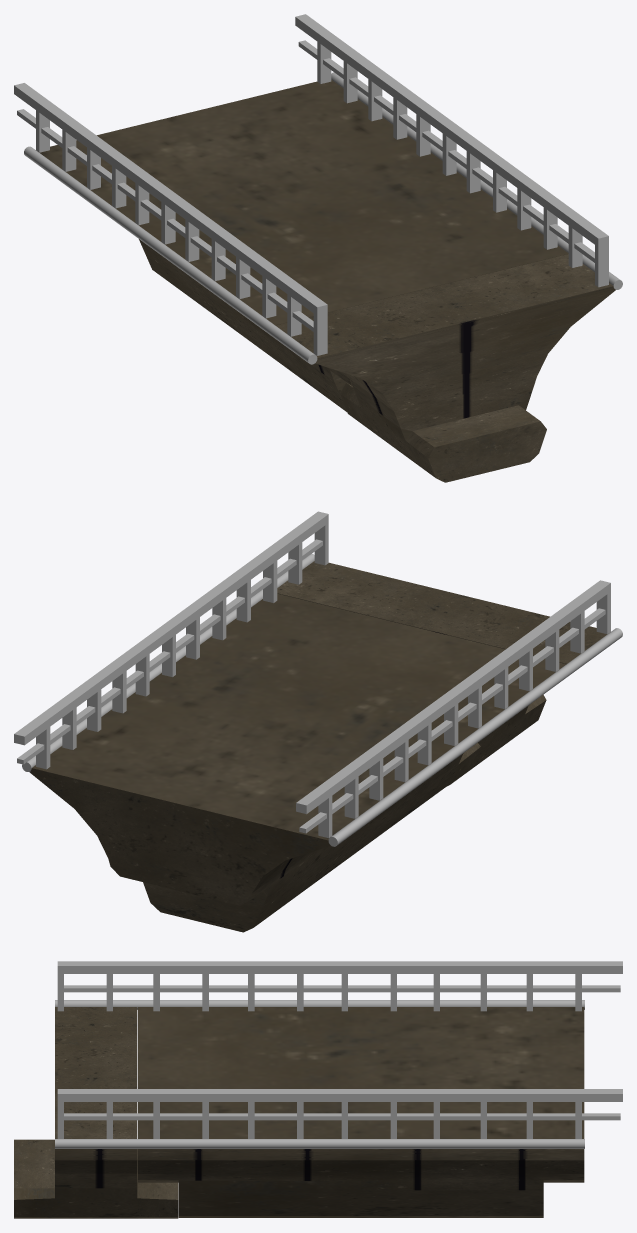
File: MrtTrack.fbx
3 renders of one model, top to bottom at view 1: azimuth 30°, elevation 25°; view 2: azimuth 150°, elevation 25°; view 3: azimuth 270°, elevation 25°, orthographic. The views are drawn at different scales.
Parts seen in each view (by area): view 1: polySurface37; view 2: polySurface37; view 3: polySurface37.
Part boxes in pixels (box(x1,y1,x2,y2)): polySurface37: box(14, 14, 622, 482); polySurface37: box(14, 511, 622, 932); polySurface37: box(14, 961, 622, 1218).
Bounding box in the file's own units: 16 × 8.93 × 28.74.
2 materials, 2 textured.
